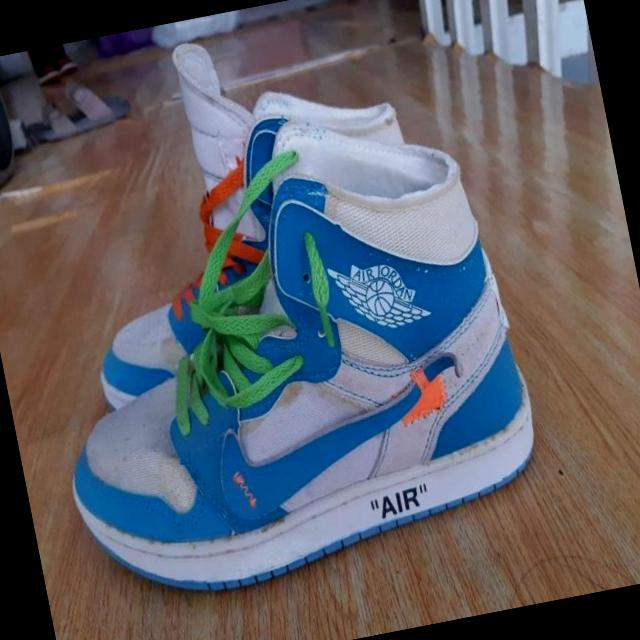nike_fake_jordan: (9, 79, 560, 620), (39, 2, 446, 414)
